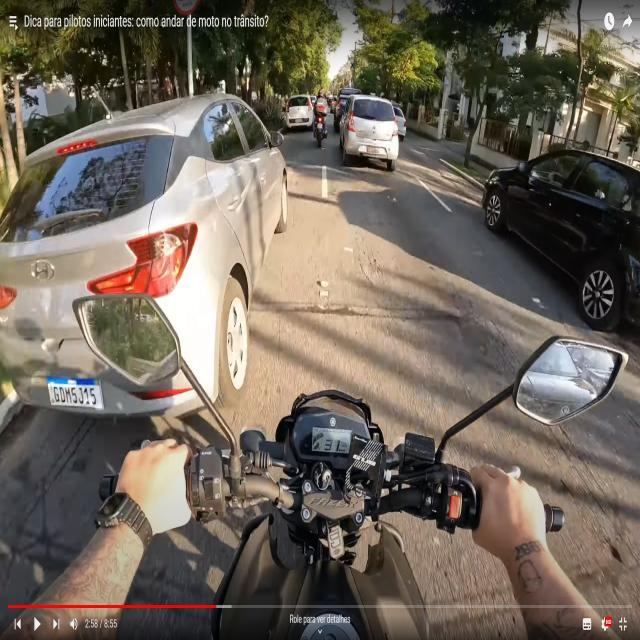Placa_mercosul_carro: (46, 377, 104, 408), (367, 146, 380, 153)
